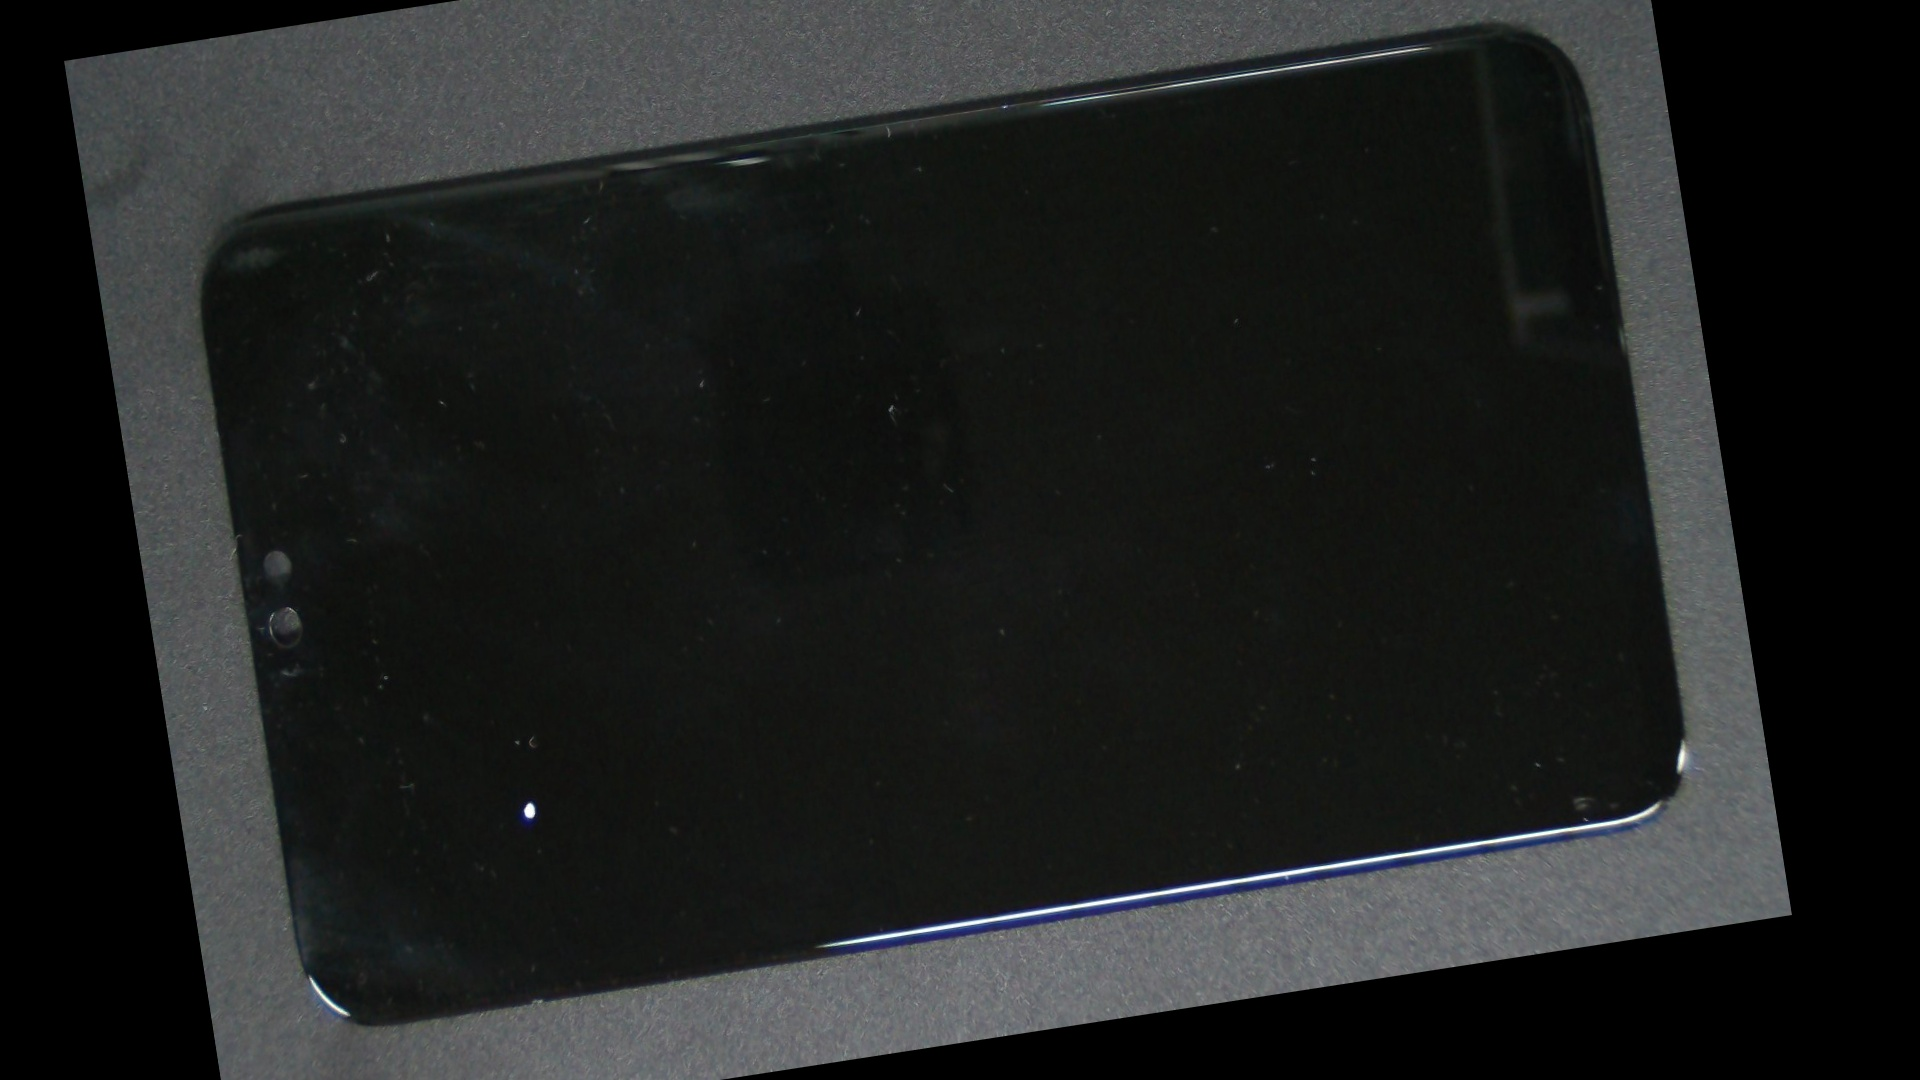oil: (297, 378, 748, 1080)
